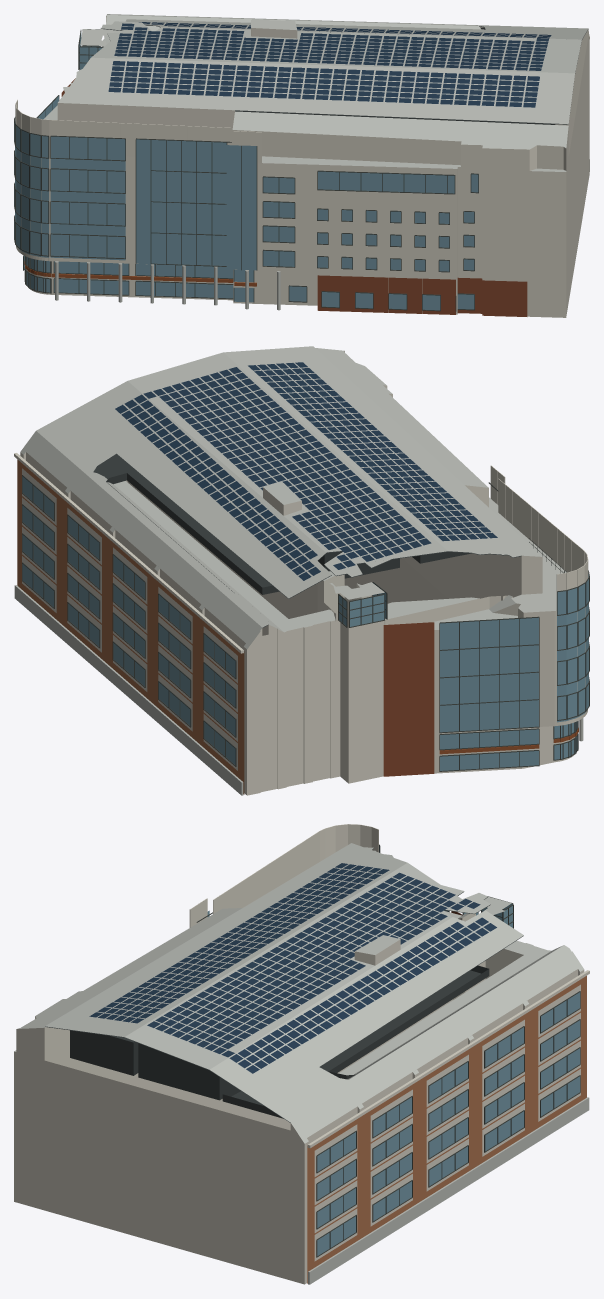
The model's file is academie-theater-dans.glb.
3 views of the same model, one above another, from view 1: azimuth 30°, elevation 25°; view 2: azimuth 150°, elevation 25°; view 3: azimuth 270°, elevation 25° (orthographic). The views are drawn at different scales.
Parts seen in each view (by area): view 1: academie-theater-dans; view 2: academie-theater-dans; view 3: academie-theater-dans.
Part boxes in pixels (bbox=[...]): academie-theater-dans: bbox=[14, 14, 589, 317]; academie-theater-dans: bbox=[14, 346, 589, 795]; academie-theater-dans: bbox=[14, 824, 589, 1284].
Size of the model in its own units: 84.88 by 28.29 by 74.45.
